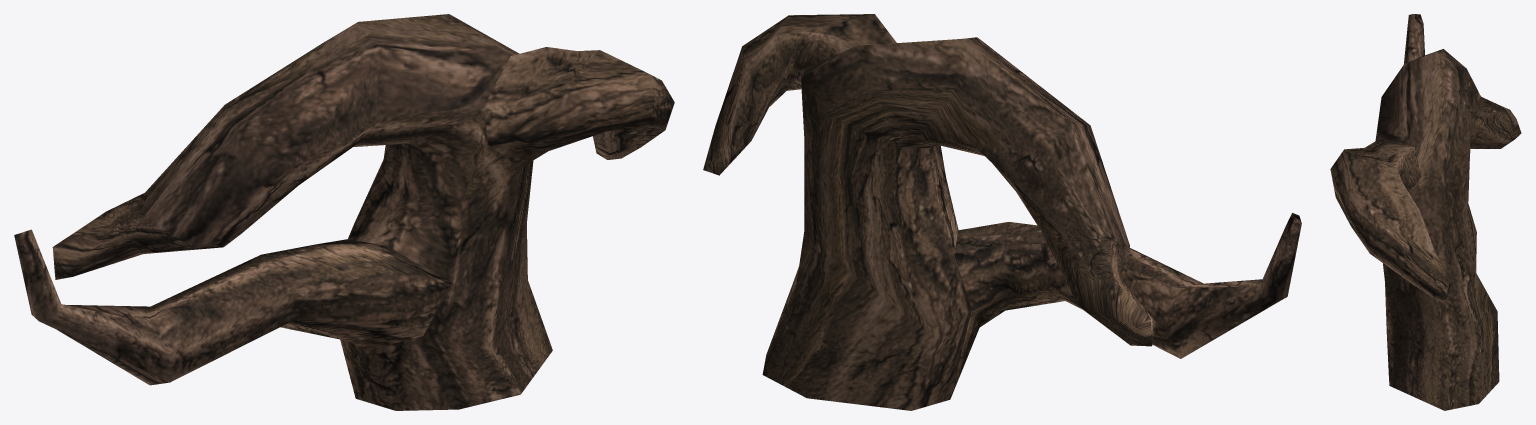
File: obstacle_tree3.fbx
The picture shows the model from 3 angles, left to right: view 1: azimuth 30°, elevation 25°; view 2: azimuth 150°, elevation 25°; view 3: azimuth 270°, elevation 25°; orthographic projection. The views are drawn at different scales.
Visible parts, largest first — view 1: pCylinder1; view 2: pCylinder1; view 3: pCylinder1.
Part boxes in pixels (box(x1,y1,x2,y2)): pCylinder1: box(14, 14, 674, 410); pCylinder1: box(703, 14, 1301, 410); pCylinder1: box(1330, 14, 1521, 410).
Bounding box in the file's own units: 289 × 168 × 103.
